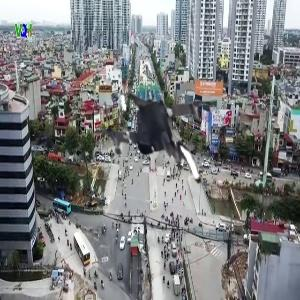drone: (87, 72, 233, 218)
